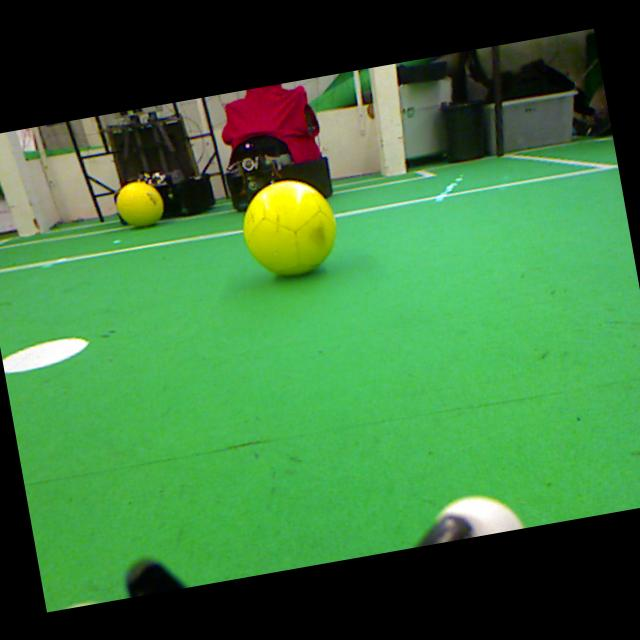ball: (241, 180, 337, 275), (116, 181, 163, 226)
goal: (0, 132, 41, 236), (373, 63, 406, 176)
robot: (107, 104, 215, 220)
